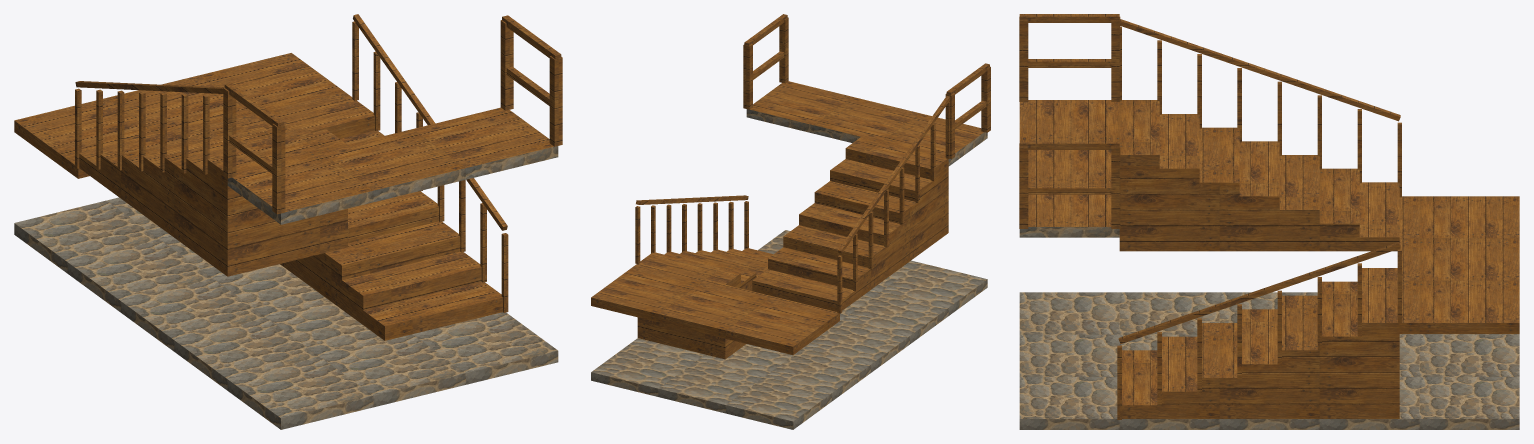
Rendered from frontier-datum-stair.gltf.
The picture shows the model from 3 angles, left to right: view 1: azimuth 30°, elevation 25°; view 2: azimuth 150°, elevation 25°; view 3: azimuth 270°, elevation 25°; orthographic projection. The views are drawn at different scales.
Parts seen in each view (by area): view 1: stairs-L0-wood, floor-L0-stone, walkway-L1-wood, guards-L1-wood, walkway-L1-stone; view 2: stairs-L0-wood, floor-L0-stone, walkway-L1-wood, guards-L1-wood, walkway-L1-stone; view 3: stairs-L0-wood, floor-L0-stone, walkway-L1-wood, guards-L1-wood, walkway-L1-stone.
Part boxes in pixels (bbox=[...]): stairs-L0-wood: bbox=[14, 14, 508, 340]; floor-L0-stone: bbox=[14, 197, 558, 429]; walkway-L1-wood: bbox=[232, 107, 553, 211]; guards-L1-wood: bbox=[223, 15, 562, 214]; walkway-L1-stone: bbox=[227, 146, 558, 224]; stairs-L0-wood: bbox=[591, 96, 950, 359]; floor-L0-stone: bbox=[591, 230, 987, 429]; walkway-L1-wood: bbox=[750, 81, 983, 157]; guards-L1-wood: bbox=[743, 14, 990, 158]; walkway-L1-stone: bbox=[746, 109, 987, 166]; stairs-L0-wood: bbox=[1117, 19, 1519, 419]; floor-L0-stone: bbox=[1019, 292, 1519, 429]; walkway-L1-wood: bbox=[1019, 100, 1119, 226]; guards-L1-wood: bbox=[1019, 14, 1120, 228]; walkway-L1-stone: bbox=[1019, 227, 1119, 237].
Size of the model in its own units: 3.09 by 3.18 by 5.01.
Materials: 3 (3 with a texture image).
